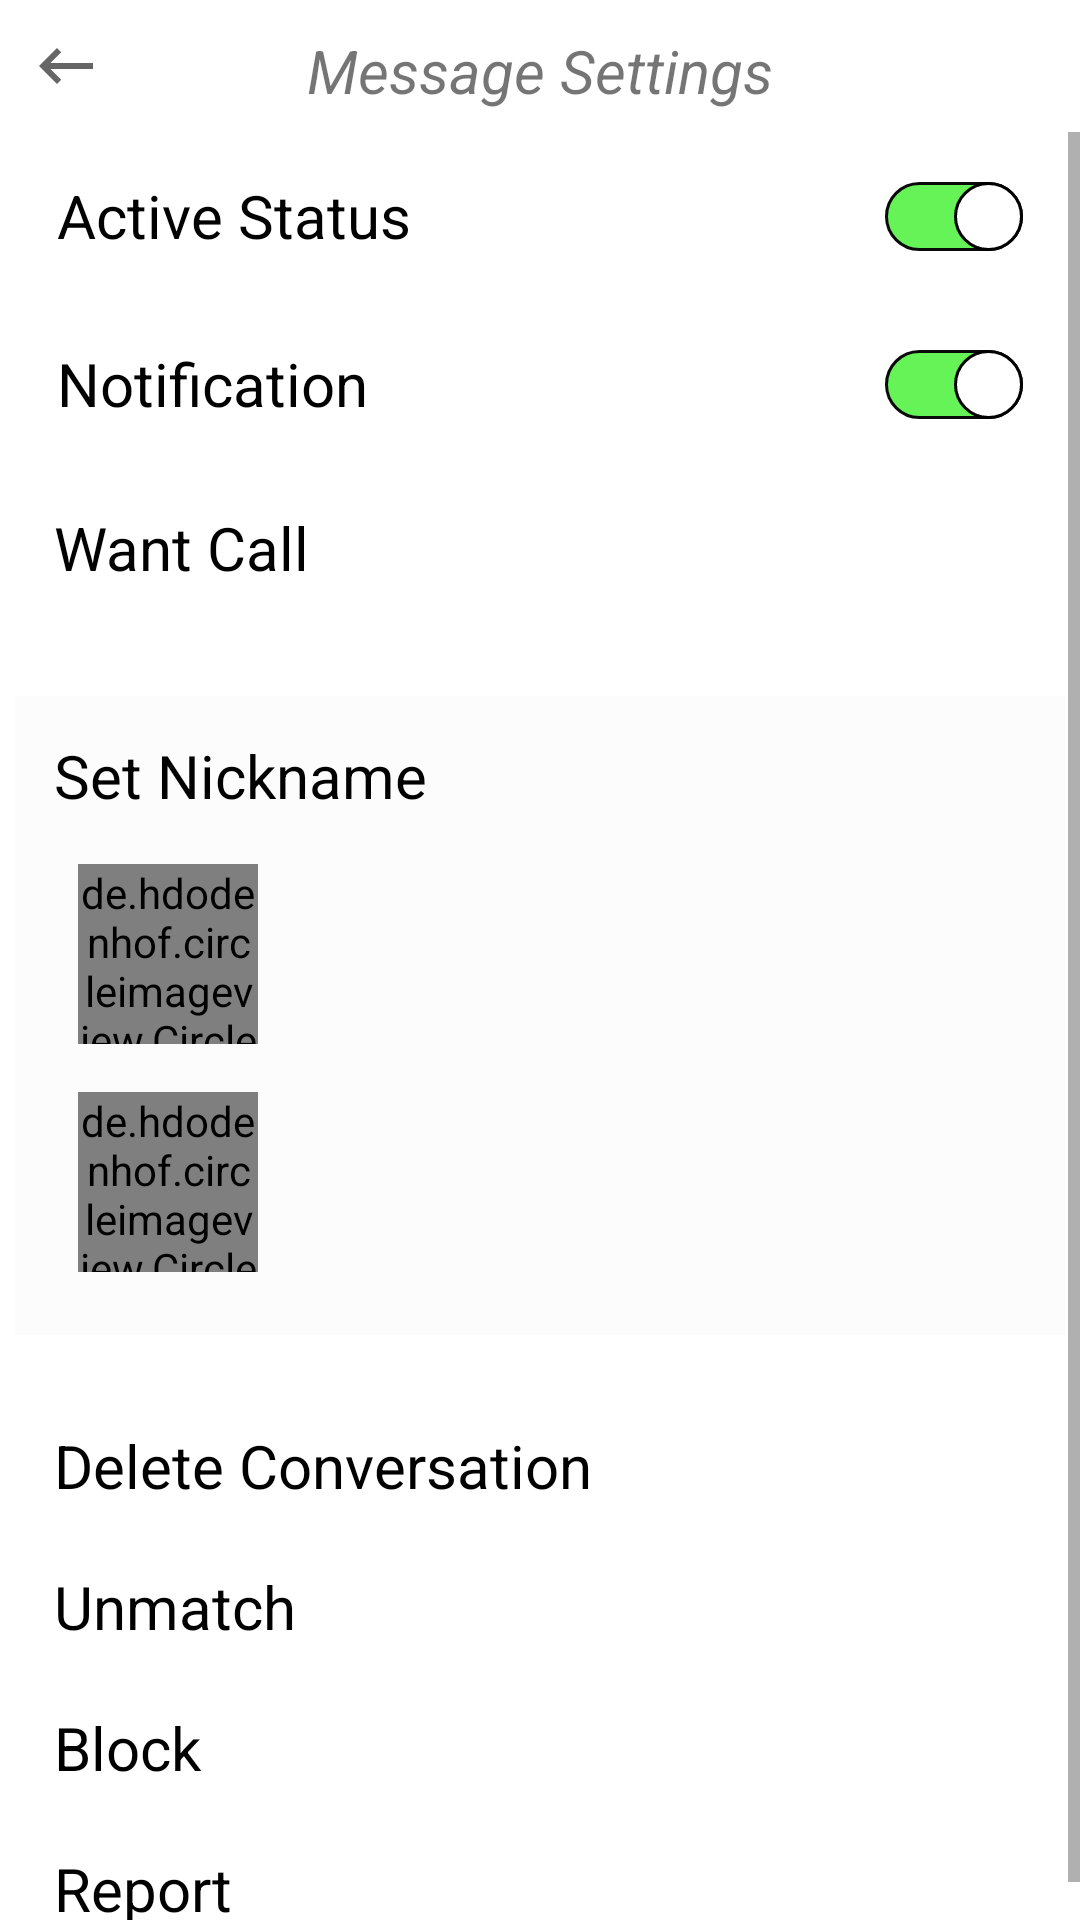

Icons on this 1080px×1920px Android screen, each with its box as detection(x1, y1, x2, y2):
slide back: detection(39, 48, 93, 84)
